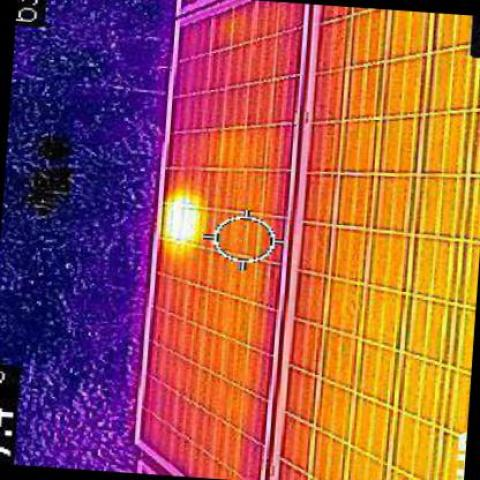fault: (168, 196, 201, 241)
